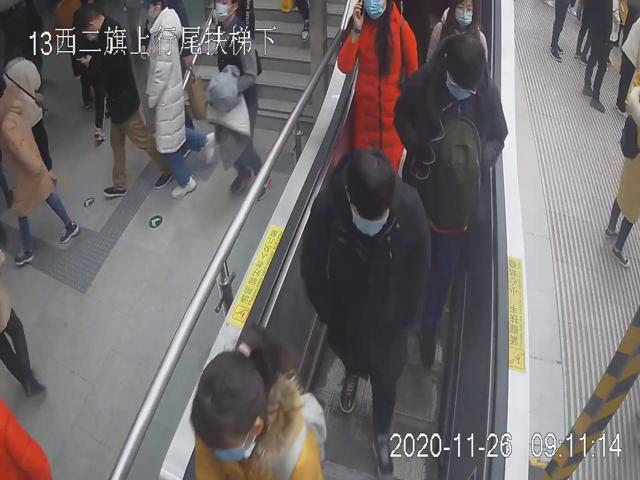person: (299, 144, 432, 480), (394, 33, 509, 367), (337, 0, 419, 181)
